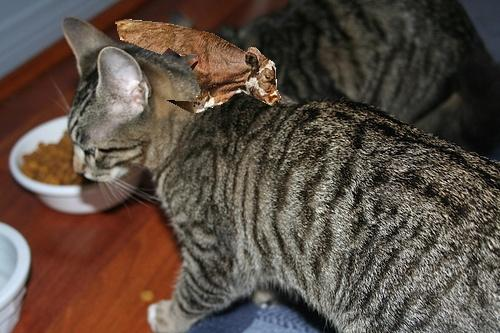tampered: (116, 20, 281, 113)
